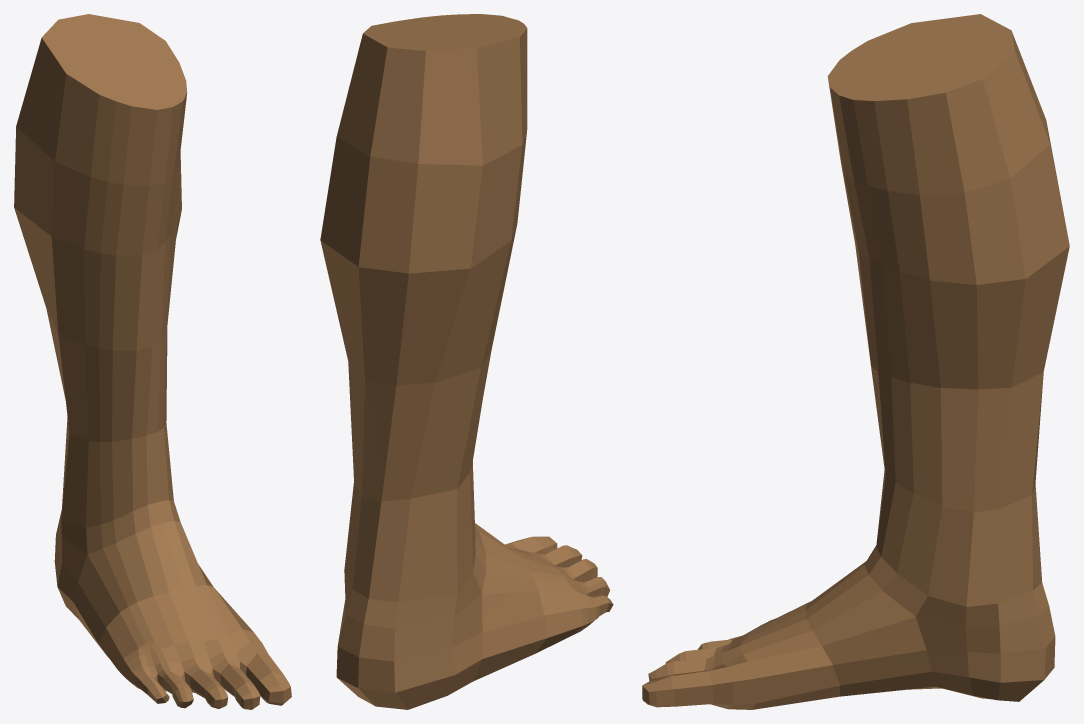
Rendered from foot.fbx.
The picture shows the model from 3 angles, left to right: view 1: azimuth 30°, elevation 25°; view 2: azimuth 150°, elevation 25°; view 3: azimuth 270°, elevation 25°; orthographic projection. The views are drawn at different scales.
Parts seen in each view (by area): view 1: default; view 2: default; view 3: default.
Part boxes in pixels (x1,y1,x2,y2): default: [14, 14, 291, 709]; default: [320, 14, 613, 709]; default: [642, 14, 1069, 709].
Bounding box in the file's own units: 121 × 476 × 285.
